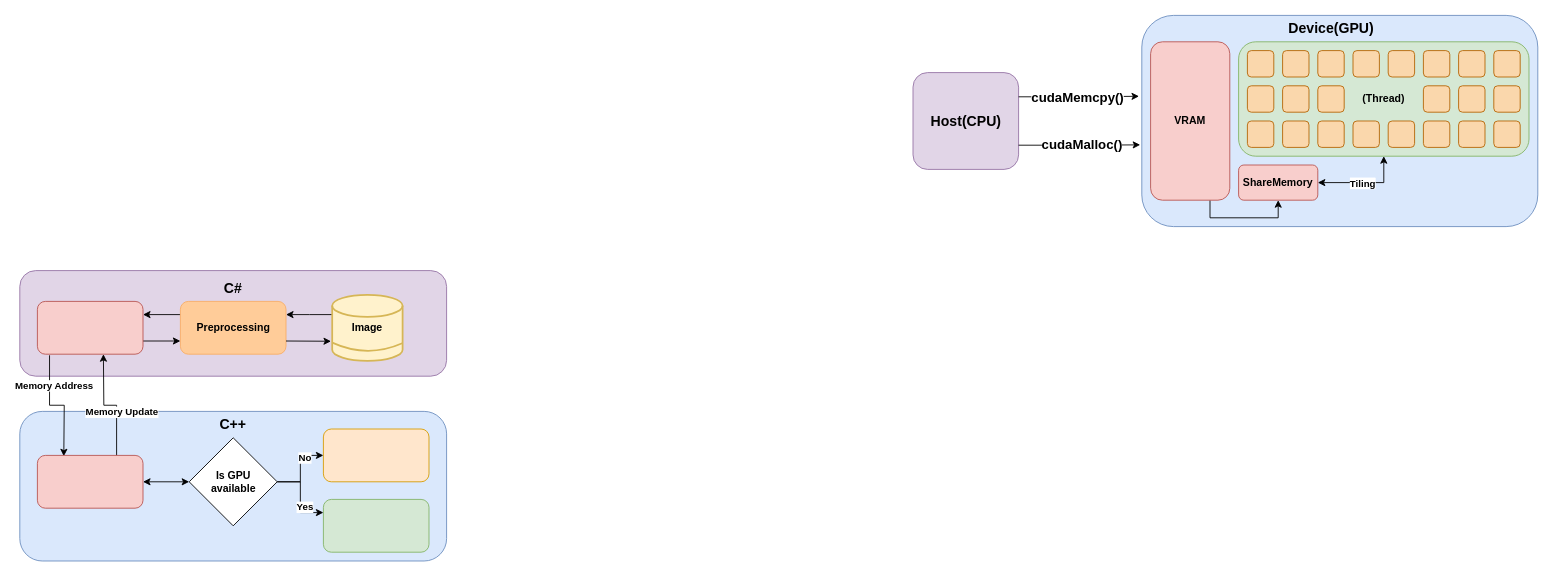
Image size: 1553x576. Some labels were removed from this diagram. Here are the shapes that lost their labels. From the top down, the centre of each, then its label:
At point 90,327: "Memory(Pinning)".
At point 376,455: "CPU".
At point 90,481: "Memory(Pinned)".
At point 376,525: "GPU(CUDA)".
